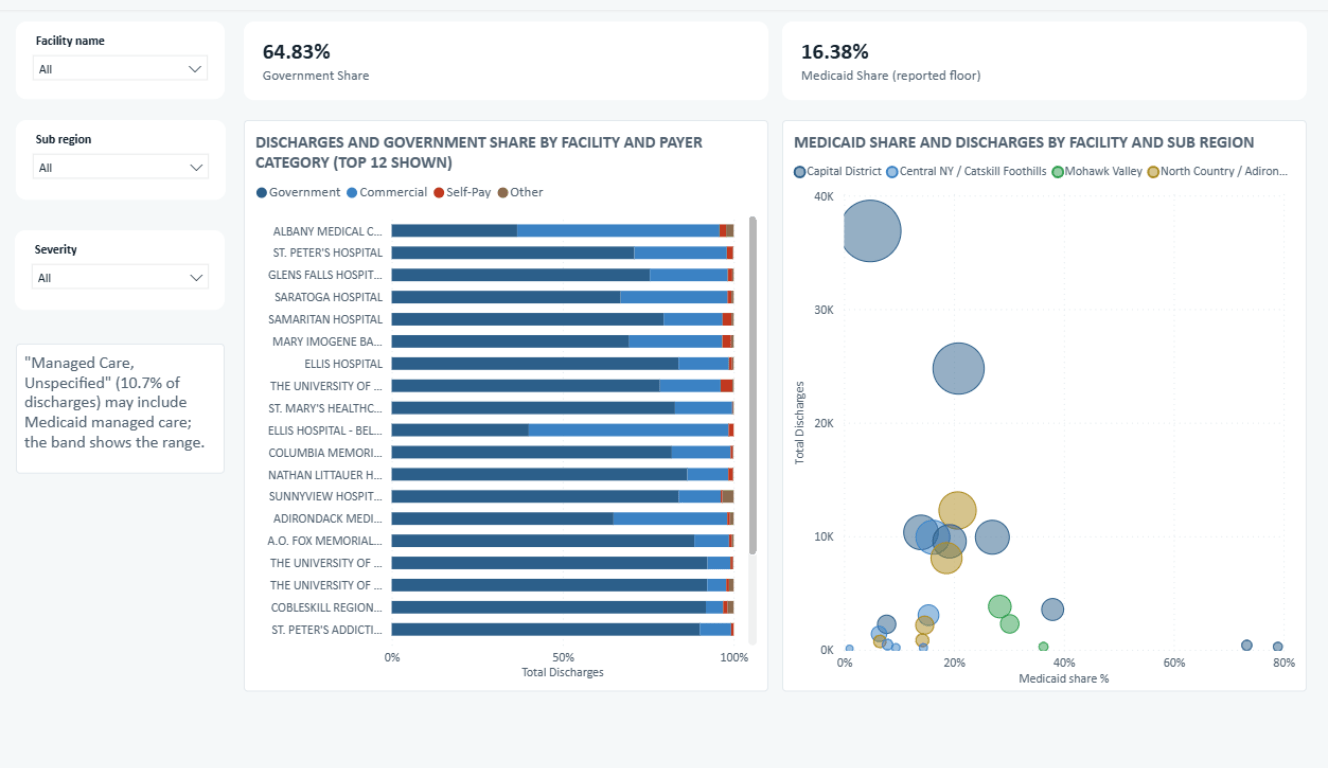

Layout of this report page (visuals, bound fields, positions):
{"tool":"powerbi","page":{"name":"Payer Mix and Medicaid Exposure (Q3)","canvas":[1280,720],"ordinal":3},"visuals":[{"type":"cardVisual","fields":{"Data":["_Measures.Medicaid Share"]},"box":[750,13.4,500,75],"z":3000},{"type":"cardVisual","fields":{"Data":["_Measures.Government Share"]},"box":[236,13.4,500,75],"z":4000},{"type":"hundredPercentStackedBarChart","title":"DISCHARGES AND GOVERNMENT SHARE BY FACILITY AND PAYER CATEGORY (TOP 12 SHOWN)","fields":{"Category":["dim_facility.facility_name"],"Y":["_Measures.Total Discharges"],"Series":["dim_payer.payer_category"]},"box":[236.6,107.3,500,545.1],"z":5000},{"type":"scatterChart","title":"MEDICAID SHARE AND DISCHARGES BY FACILITY AND SUB REGION","fields":{"Category":["dim_facility.facility_name"],"Series":["dim_facility.sub_region"],"X":["_Measures.Medicaid Share"],"Y":["_Measures.Total Discharges"],"Size":["_Measures.Total Discharges"]},"box":[750,107.3,500,545.1],"z":6000},{"type":"textbox","box":[19.5,320.7,198.8,124.4],"z":7000},{"type":"slicer","title":"FACILITY NAME","fields":{"Values":["dim_facility.facility_name"]},"box":[19.5,13.4,198.8,74.4],"z":8000},{"type":"slicer","title":"SUB REGION","fields":{"Values":["dim_facility.sub_region"]},"box":[19.5,107.3,200,75.6],"z":9000},{"type":"slicer","title":"APR SEVERITY OF ILLNESS","fields":{"Values":["fact_discharges.apr_severity_of_illness"]},"box":[18.3,212.2,200,75.6],"z":10000}]}

Visuals, with their boxes in screenshot pixels (x1, y1, x2, y2), scaled from the page's 1280x720 canvas onto the 1328x768 screenshot:
cardVisual - _Measures.Medicaid Share: <bbox>778, 14, 1297, 94</bbox>
cardVisual - _Measures.Government Share: <bbox>245, 14, 764, 94</bbox>
"DISCHARGES AND GOVERNMENT SHARE BY FACILITY AND PAYER CATEGORY (TOP 12 SHOWN)" hundredPercentStackedBarChart: <bbox>245, 114, 764, 696</bbox>
"MEDICAID SHARE AND DISCHARGES BY FACILITY AND SUB REGION" scatterChart: <bbox>778, 114, 1297, 696</bbox>
textbox: <bbox>20, 342, 226, 475</bbox>
"FACILITY NAME" slicer: <bbox>20, 14, 226, 94</bbox>
"SUB REGION" slicer: <bbox>20, 114, 228, 195</bbox>
"APR SEVERITY OF ILLNESS" slicer: <bbox>19, 226, 226, 307</bbox>
